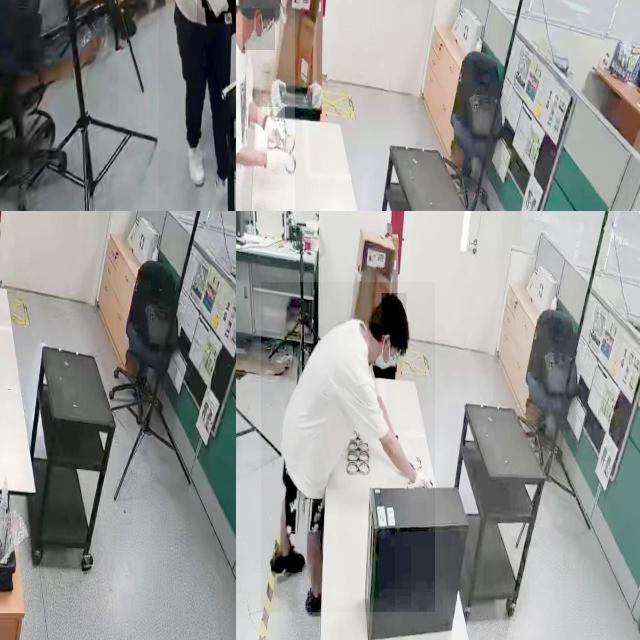face_mask: (368, 336, 402, 378), (243, 8, 275, 50)
hand_glove: (262, 141, 294, 186), (257, 107, 285, 147), (408, 461, 434, 503), (197, 0, 235, 22)
head_nohelmet: (382, 293, 406, 335)
person: (261, 282, 435, 613), (159, 0, 236, 211), (236, 0, 295, 211)
shoes: (268, 542, 306, 582), (185, 128, 207, 186), (213, 160, 236, 211)
